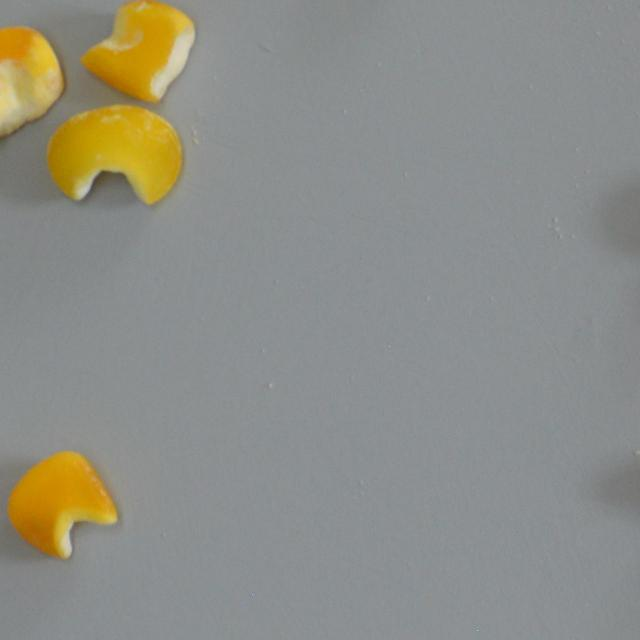no_canjicado: (4, 448, 118, 562), (78, 0, 196, 102), (0, 24, 64, 140)
pelicula: (42, 103, 182, 207)
